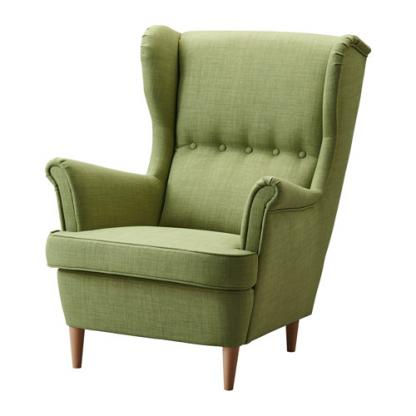Chair: (43, 23, 372, 392)
